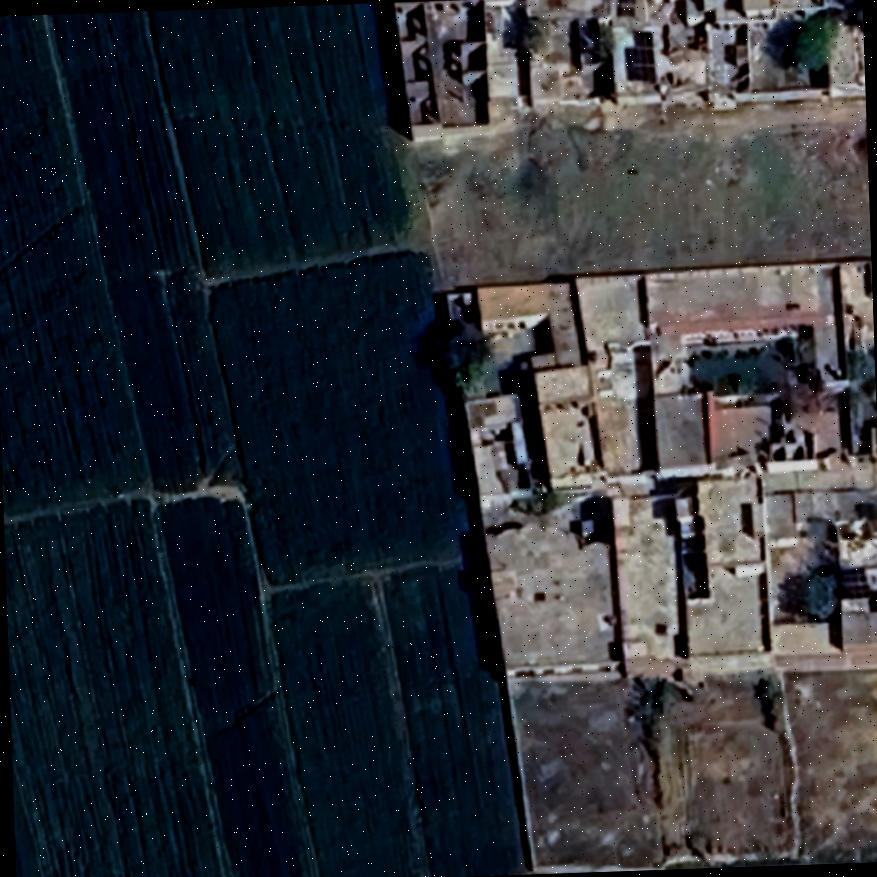Solarpanel: (622, 26, 659, 87), (832, 562, 873, 603), (612, 0, 638, 21)
